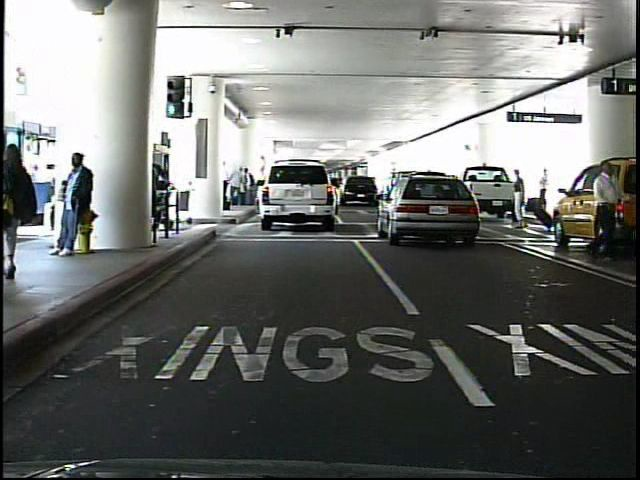person: (56, 149, 95, 258), (588, 156, 625, 262), (508, 169, 527, 232), (539, 167, 552, 214), (243, 167, 257, 207)
